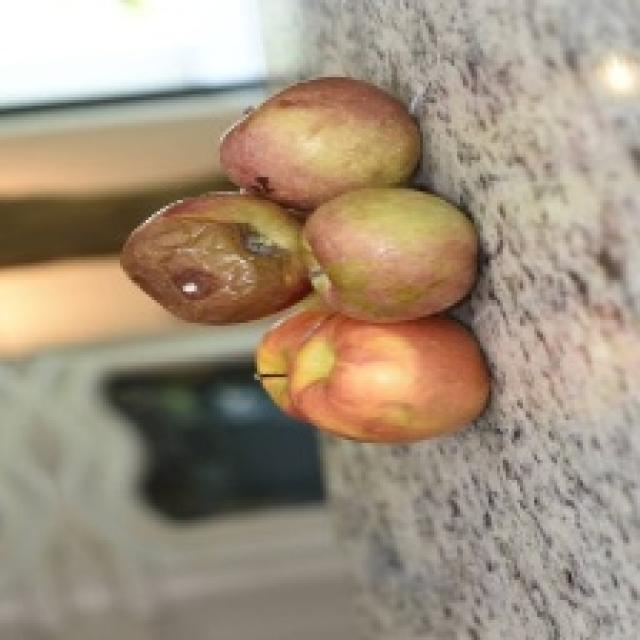100-_ripeness: (255, 325, 500, 444), (225, 79, 437, 180), (313, 187, 475, 313)
rotten_apple: (121, 198, 309, 322)
